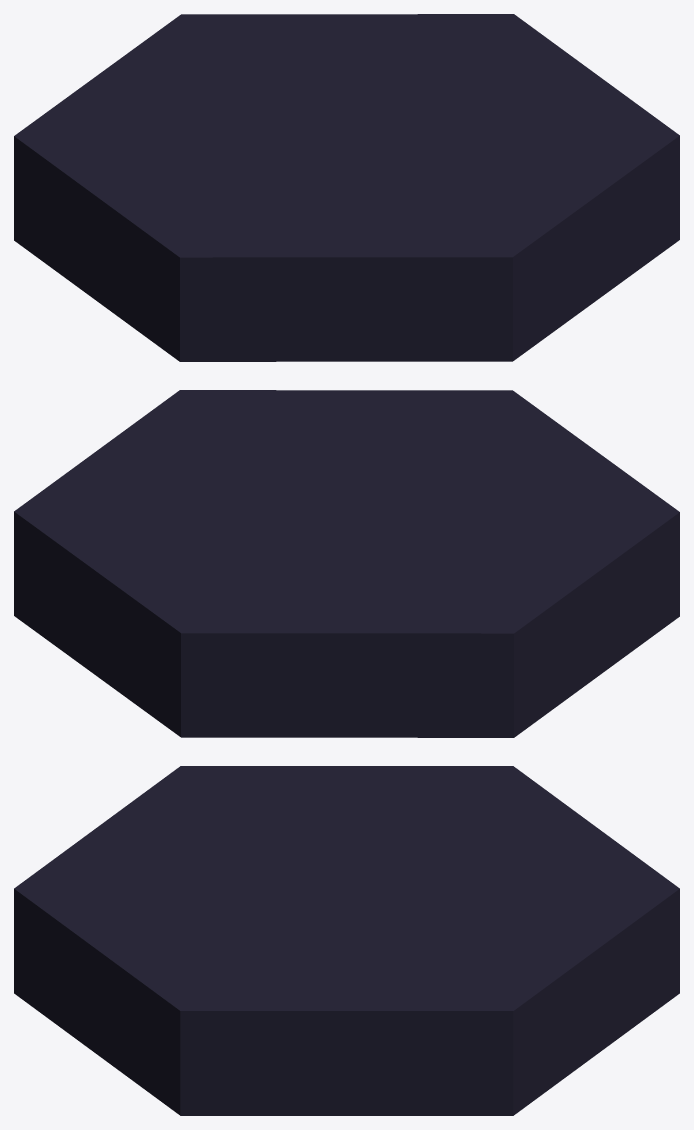
File: Hex2.fbx
3 views of the same model, one above another, from view 1: azimuth 30°, elevation 25°; view 2: azimuth 150°, elevation 25°; view 3: azimuth 270°, elevation 25° (orthographic).
Parts seen in each view (by area): view 1: Hex2; view 2: Hex2; view 3: Hex2.
Part boxes in pixels (x1,y1,x2,y2): Hex2: (14,14,679,361); Hex2: (14,390,679,737); Hex2: (14,766,679,1115).
Bounding box in the file's own units: 1 × 0.2003 × 1.15.
